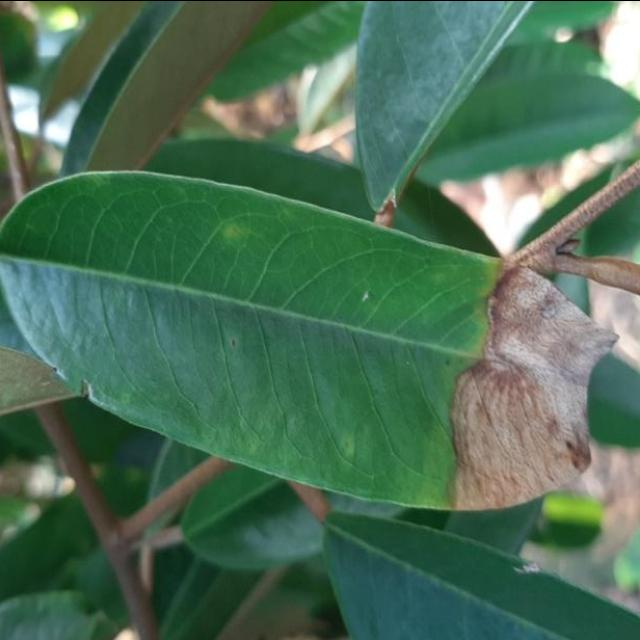Leaf Blight: (4, 165, 640, 537)
